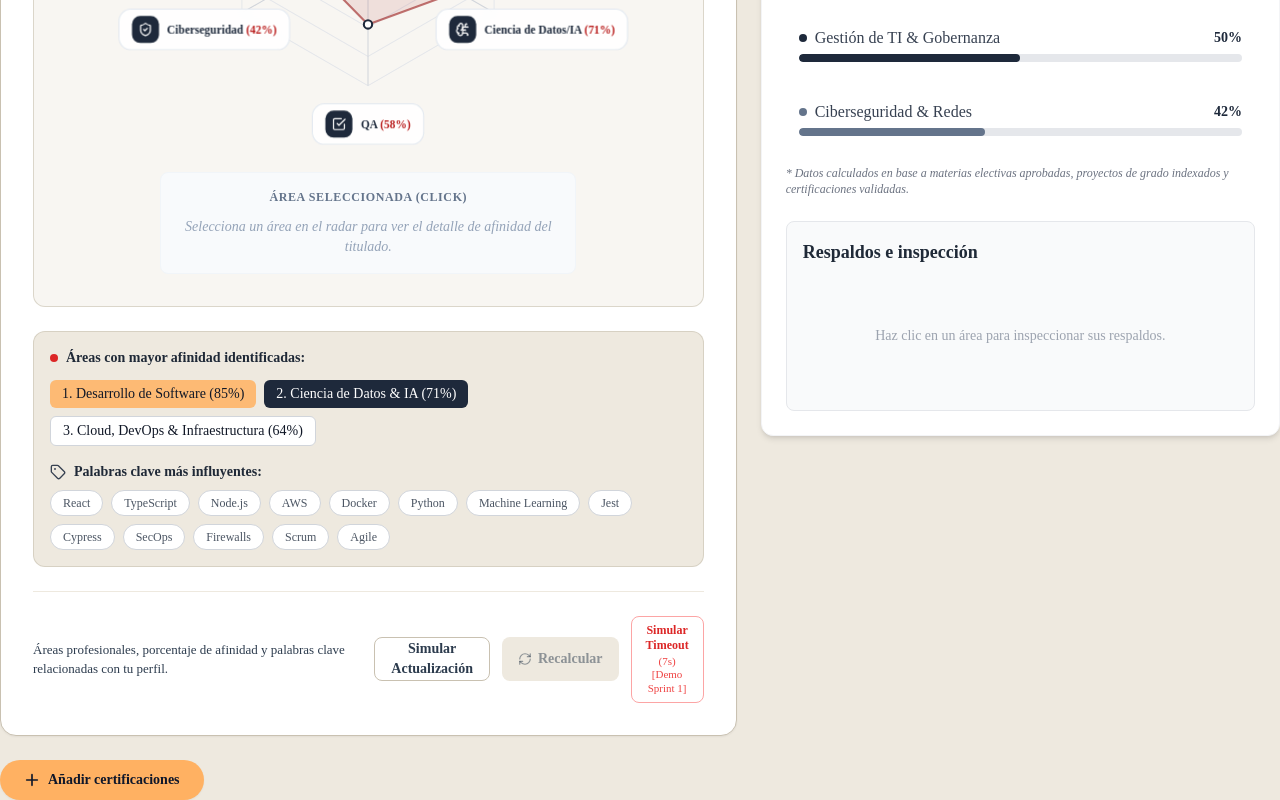
GraduateAffinityView › muestra el diálogo al simular una actualización
The image size is (1280, 800).
(page scrolled)
Step 1. Click the button with aria-label "simular actualización del radar" → [432, 659], box [374,637,490,681]
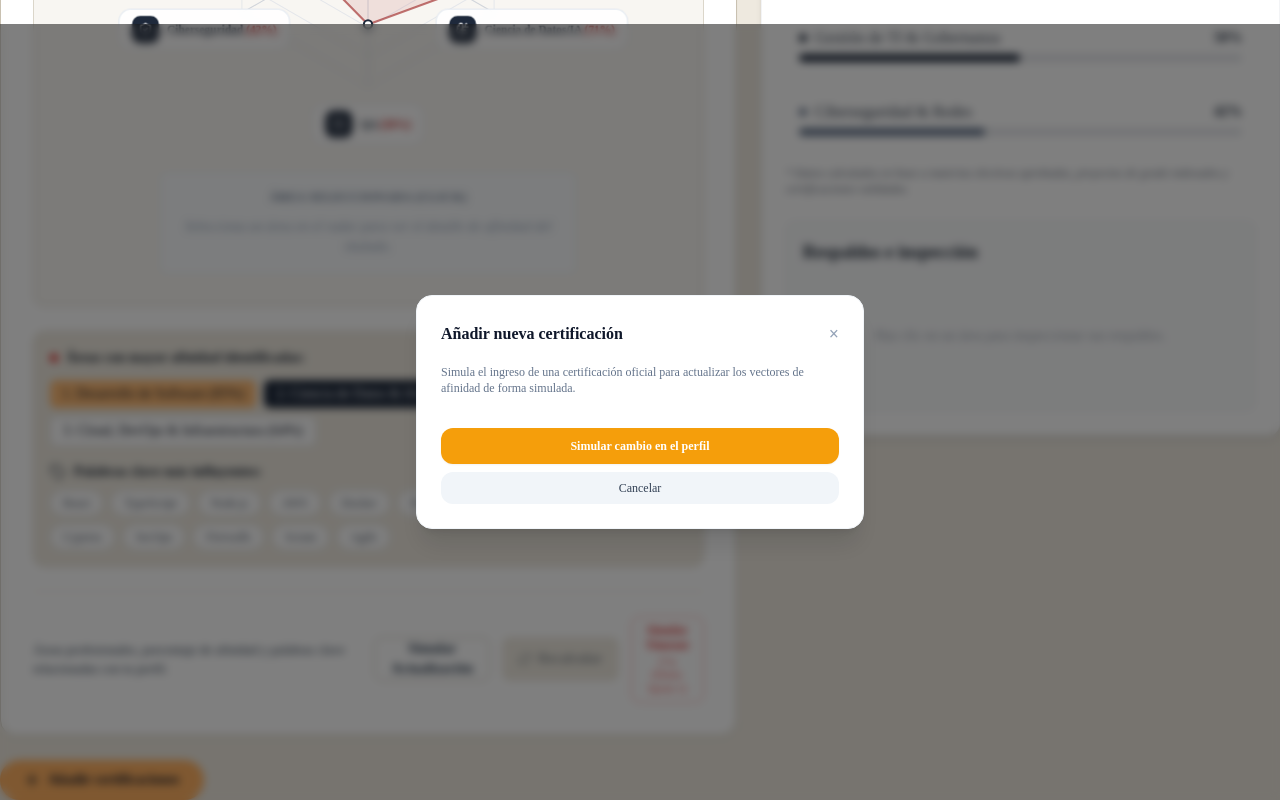
Result: the dialog is shown at [416,295,864,529]
